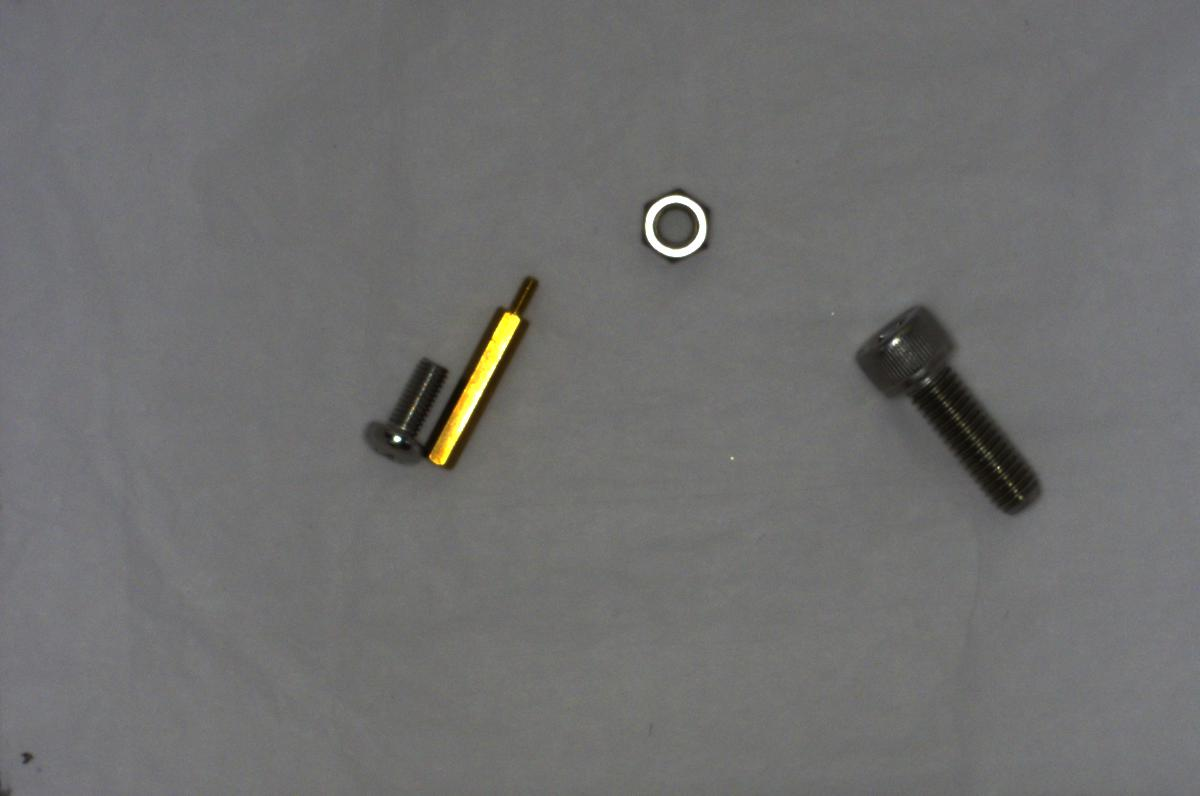Hexagon nut: (630, 179, 717, 268)
Hexagon pillar: (422, 265, 553, 470)
Hexagon screw: (848, 305, 1059, 520)
Round head screw: (357, 356, 457, 459)
